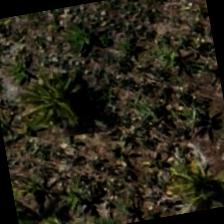Kelapa_Sawit: (2, 52, 106, 156), (151, 130, 223, 218)
